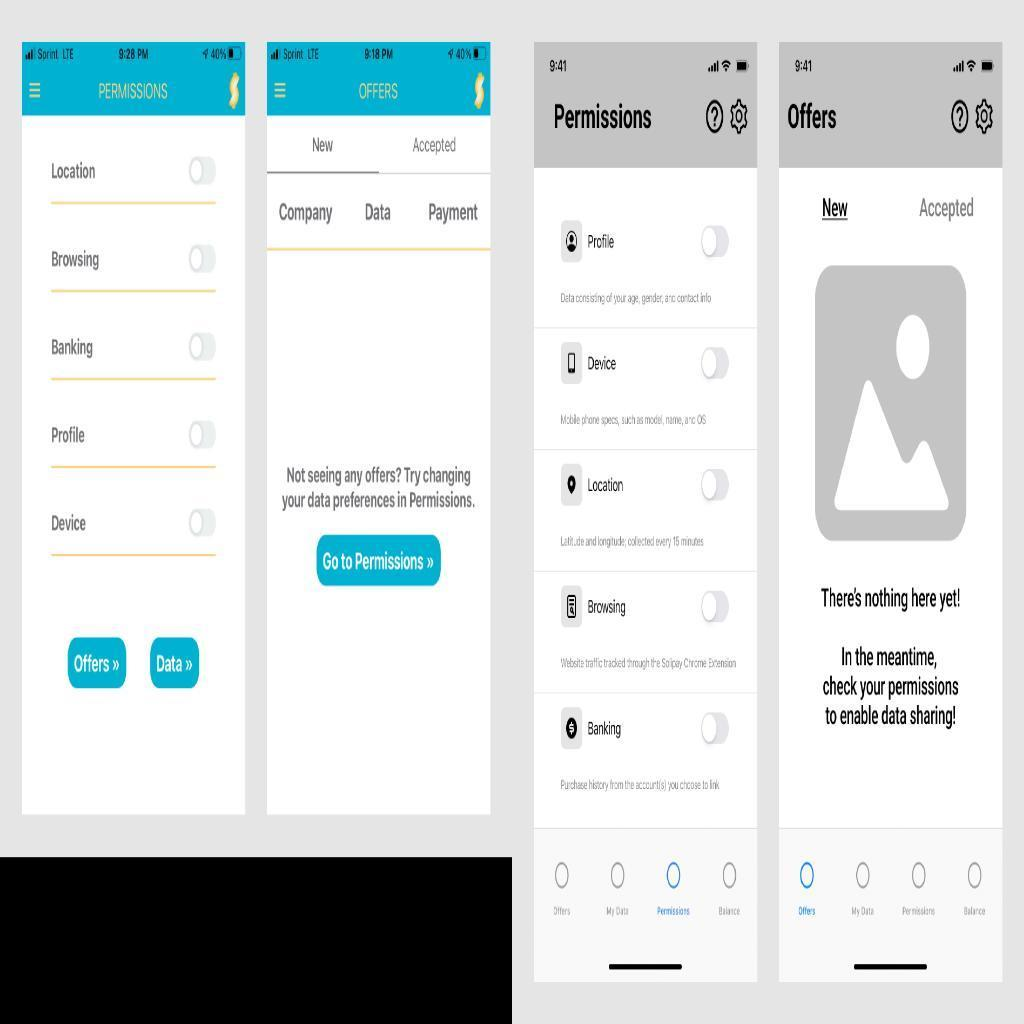button: (317, 535, 442, 587), (69, 638, 126, 689), (151, 638, 200, 690)
icon: (731, 99, 749, 136), (976, 99, 994, 136), (952, 100, 969, 136), (707, 100, 724, 135), (565, 228, 581, 256), (567, 593, 579, 621), (566, 717, 579, 742), (28, 82, 43, 101), (567, 350, 577, 377), (274, 82, 288, 100), (568, 474, 578, 498)
label: (554, 101, 653, 132), (98, 80, 170, 103), (788, 102, 839, 131), (278, 202, 334, 227), (50, 249, 103, 275), (921, 198, 975, 222), (428, 202, 481, 225), (411, 136, 459, 157), (52, 337, 95, 360), (52, 162, 97, 182), (52, 513, 89, 535), (359, 82, 399, 101), (51, 426, 87, 447), (588, 599, 627, 618), (588, 720, 623, 741), (588, 476, 625, 495), (365, 201, 392, 225), (823, 198, 849, 218), (588, 233, 616, 251), (589, 355, 618, 372), (902, 904, 937, 918), (657, 906, 692, 919), (312, 137, 336, 154), (719, 906, 744, 918), (851, 906, 876, 918), (608, 905, 630, 918), (964, 907, 987, 918), (799, 905, 818, 917), (553, 907, 573, 918)
radio: (968, 862, 984, 891), (912, 863, 928, 890), (800, 862, 815, 890), (857, 862, 872, 890), (667, 862, 681, 891), (556, 863, 570, 890), (724, 863, 738, 890), (612, 862, 625, 890)
switch: (702, 348, 730, 380), (702, 591, 730, 623), (702, 713, 730, 745), (703, 470, 730, 502), (703, 227, 730, 258), (190, 509, 218, 538), (190, 333, 217, 362), (190, 421, 217, 449), (191, 157, 217, 186), (190, 247, 217, 274)
